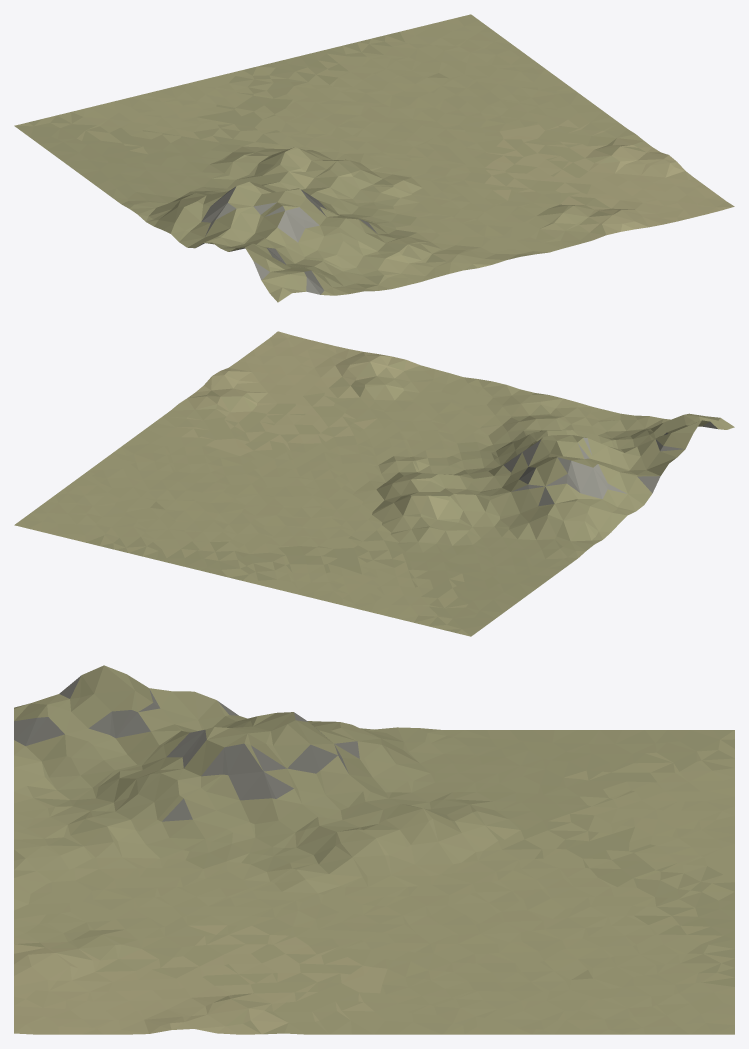
The model's file is Ground_-5_-9.glb.
3 views of the same model, one above another, from view 1: azimuth 30°, elevation 25°; view 2: azimuth 150°, elevation 25°; view 3: azimuth 270°, elevation 25° (orthographic). The views are drawn at different scales.
Parts seen in each view (by area): view 1: Ground_-5_-9; view 2: Ground_-5_-9; view 3: Ground_-5_-9.
Boxes of the visible parts, left/top/right/bottom form: Ground_-5_-9: left=14, top=14, right=734, bottom=302; Ground_-5_-9: left=14, top=331, right=734, bottom=636; Ground_-5_-9: left=14, top=665, right=734, bottom=1034.
Size of the model in its own units: 768 by 75.95 by 768.
